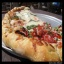pizza: (3, 5, 64, 64)
